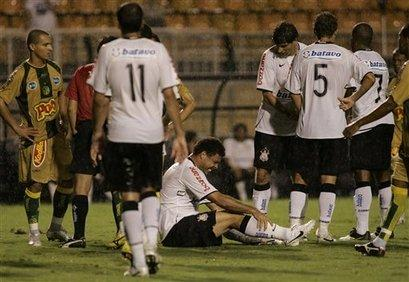bending: (142, 136, 321, 256)
up: (88, 2, 184, 282), (288, 14, 360, 247), (2, 32, 76, 247), (253, 18, 318, 238), (342, 20, 400, 253)
